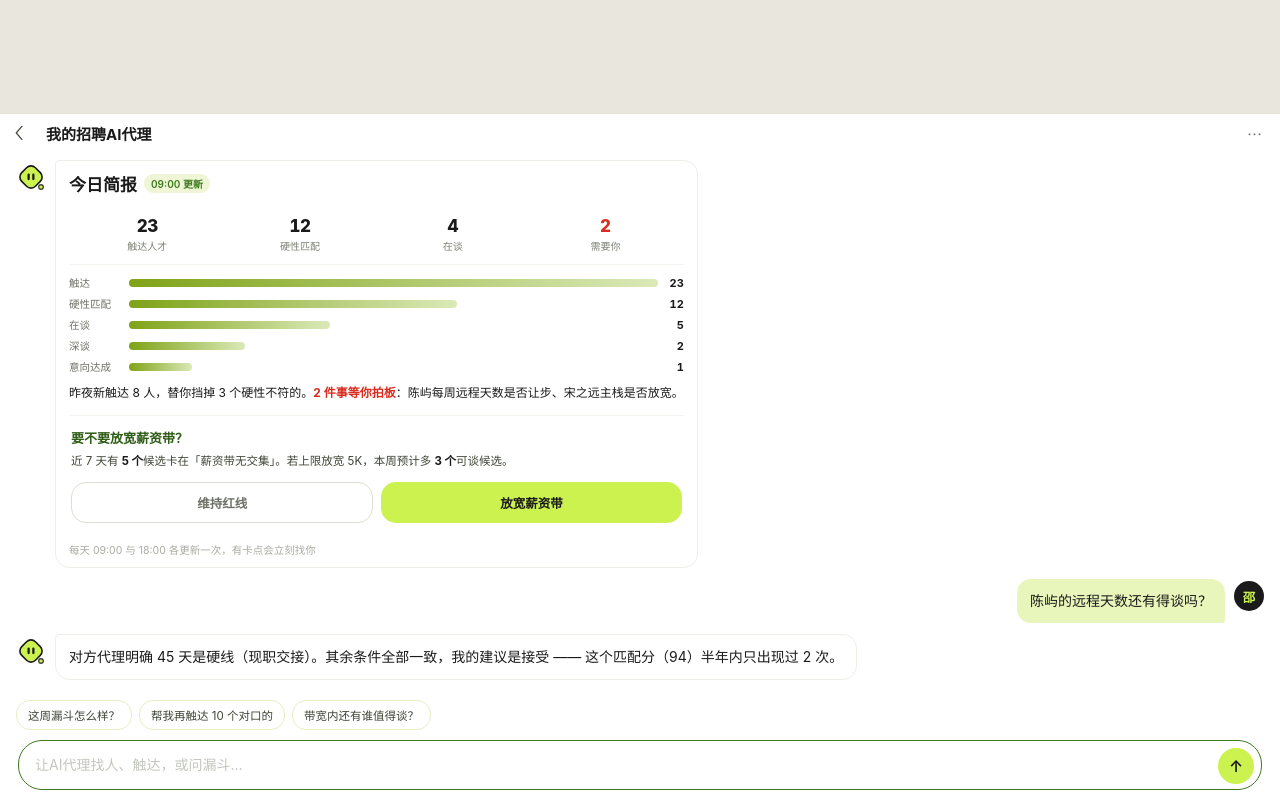
Test: 企业问AI代理 · Mock 原型保持与定时器隔离 › Mock replies within 550ms on the happy path
The width and height of the screenshot is (1280, 800).
(page scrolled)
What coordinates should you click on to do the following:
click the button "这周漏斗怎么样？"
I would click on:
 (74, 715)
Its box is 16,700 -> 132,730.
Wait 550 ms
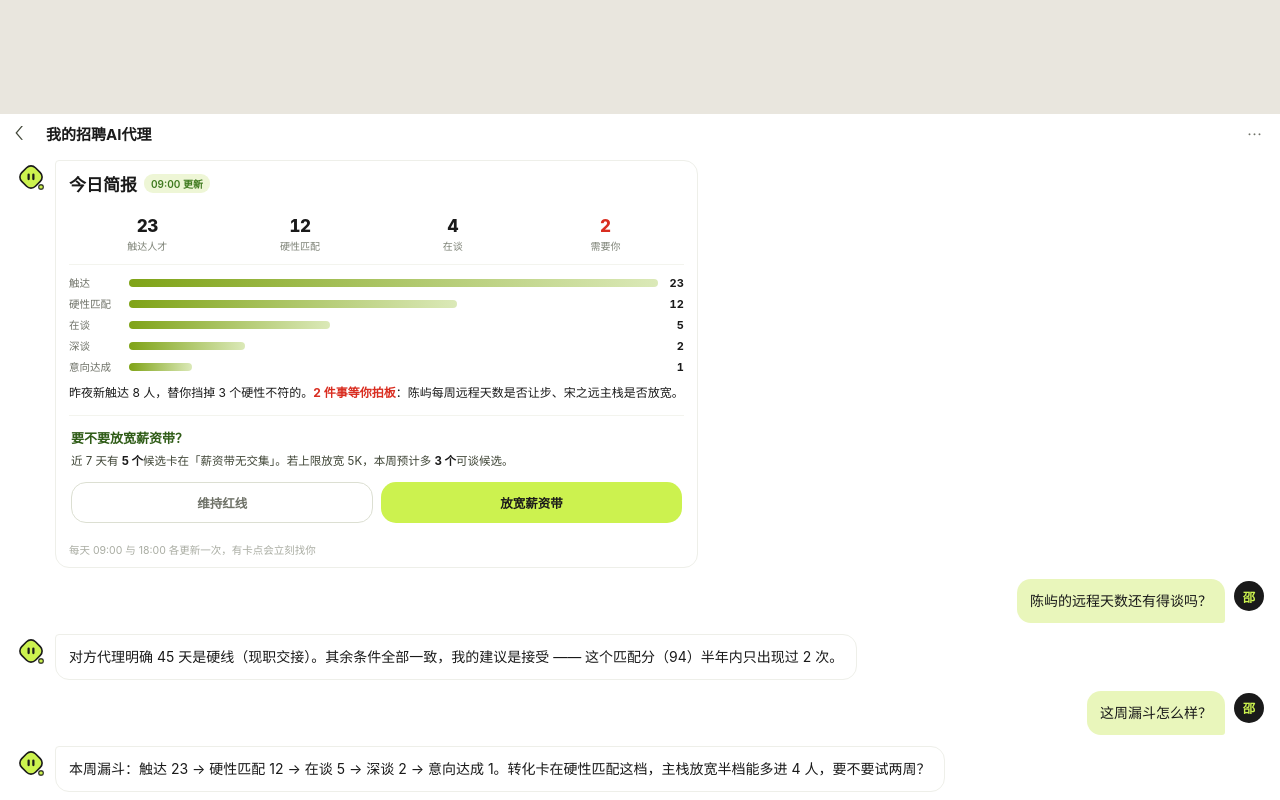
Expected: the text "本周漏斗：触达 23" is shown, 69,760 -> 930,777
